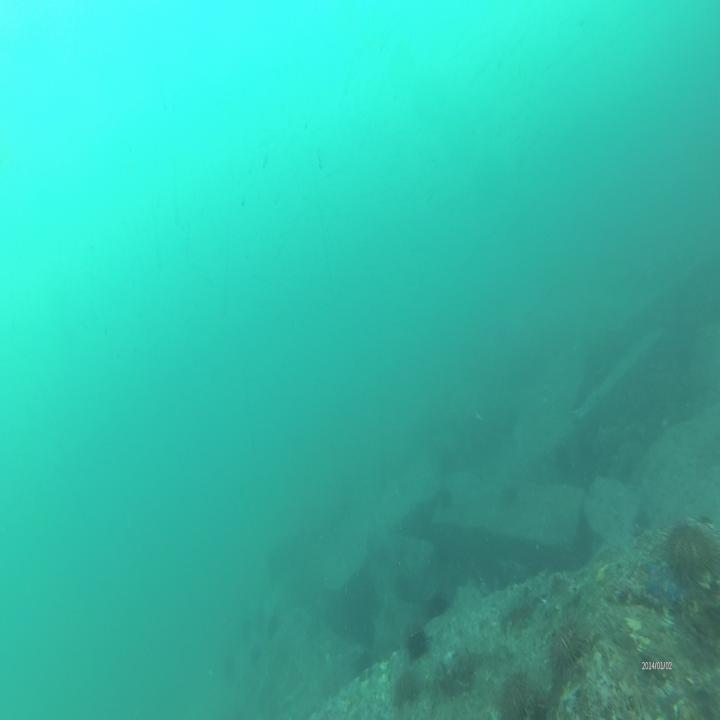echinus: (551, 615, 587, 665), (500, 670, 534, 718), (409, 630, 426, 659)
starfish: (644, 554, 684, 607)
